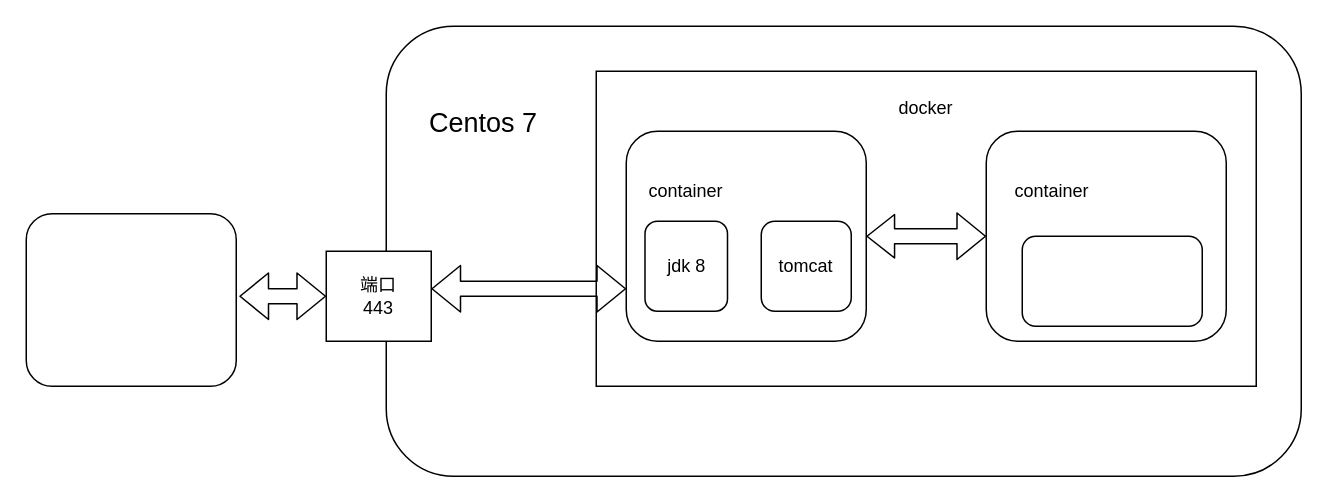
Some shapes in this 1328 by 503 pixel diagram are drawn without their labels. The shapes that lost their labels are listed below. From the top down, each one's centre as x and y in pixels, then its label:
At pixel 130 299: "小程序".
At pixel 1111 280: "mysql".
